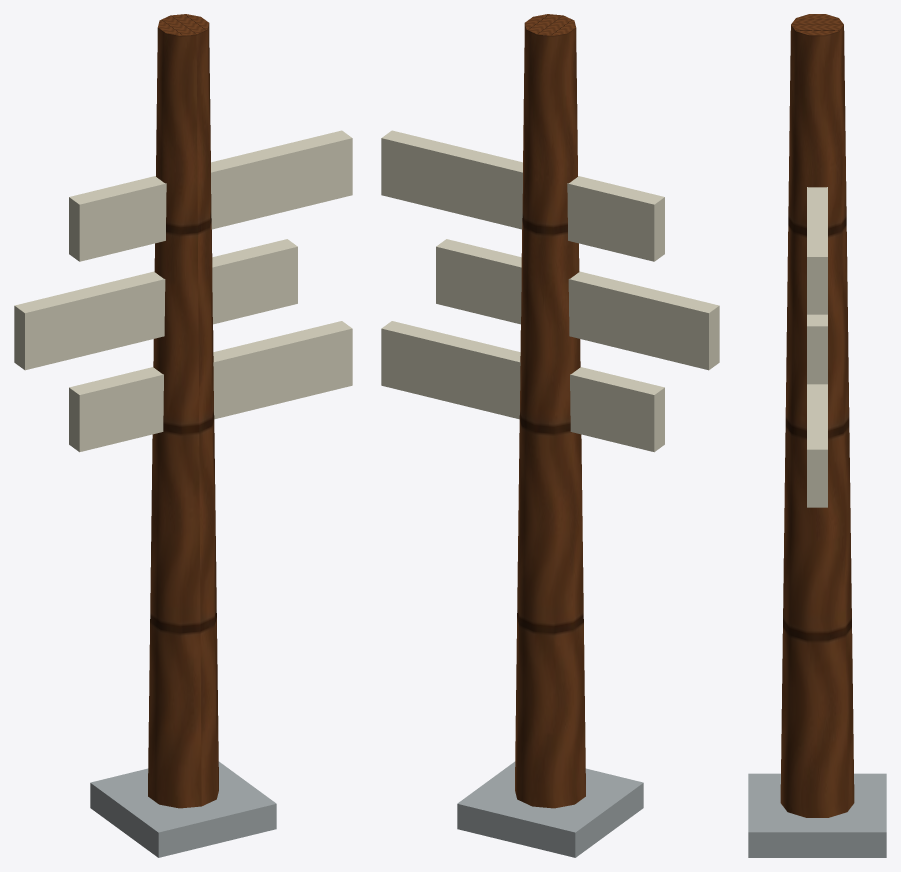
File: rural-scavenging-settlements-village-signpost-5f9f9192__26592.glb
3 renders of one model, left to right at view 1: azimuth 30°, elevation 25°; view 2: azimuth 150°, elevation 25°; view 3: azimuth 270°, elevation 25°, orthographic.
Visible parts, largest first — view 1: village-signpost; view 2: village-signpost; view 3: village-signpost.
Boxes of the visible parts, x1,y1,x2,y2 form: village-signpost: (14,14,352,857); village-signpost: (381,14,719,857); village-signpost: (748,14,886,857).
Size of the model in its own units: 1.08 by 2.5 by 0.39.
Materials: 3 (1 with a texture image).
